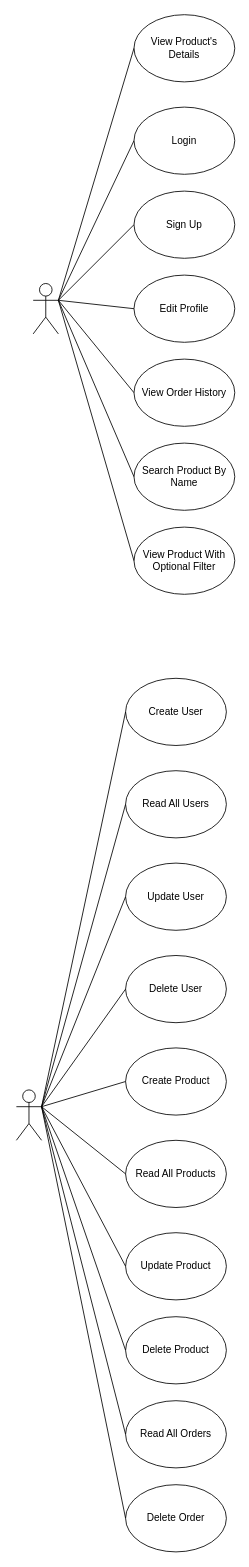
This 249x1567 diagram has some shape labels left out. The box of each missing label's shape, as (x1, y1, x2, y2) in pixels:
Admin: (16, 1089, 42, 1140)
User: (32, 283, 58, 334)
